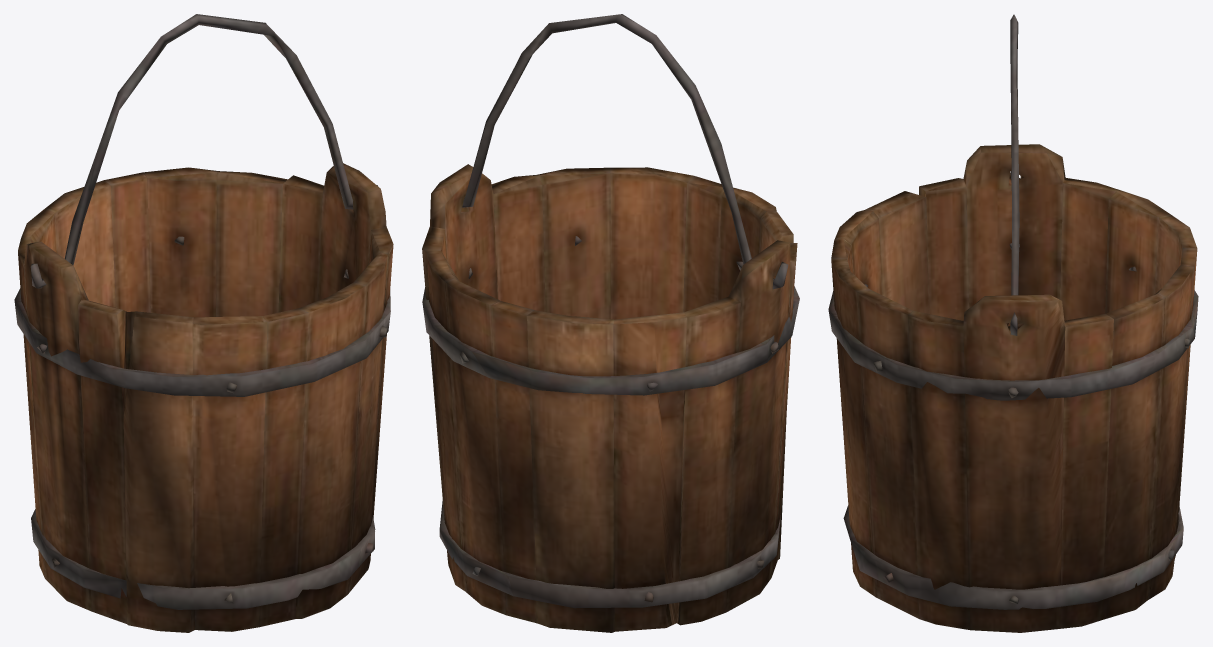
Rendered from prop_bucket_01.glb.
3 renders of one model, left to right at view 1: azimuth 30°, elevation 25°; view 2: azimuth 150°, elevation 25°; view 3: azimuth 270°, elevation 25°, orthographic.
Visible parts, largest first — view 1: prop_bucket_01; view 2: prop_bucket_01; view 3: prop_bucket_01.
Part boxes in pixels (x1,y1,x2,y2): prop_bucket_01: (14, 14, 393, 632); prop_bucket_01: (422, 14, 799, 632); prop_bucket_01: (828, 14, 1198, 632).
Size of the model in its own units: 0.3663 by 0.5512 by 0.3413.
1 material, 1 textured.
